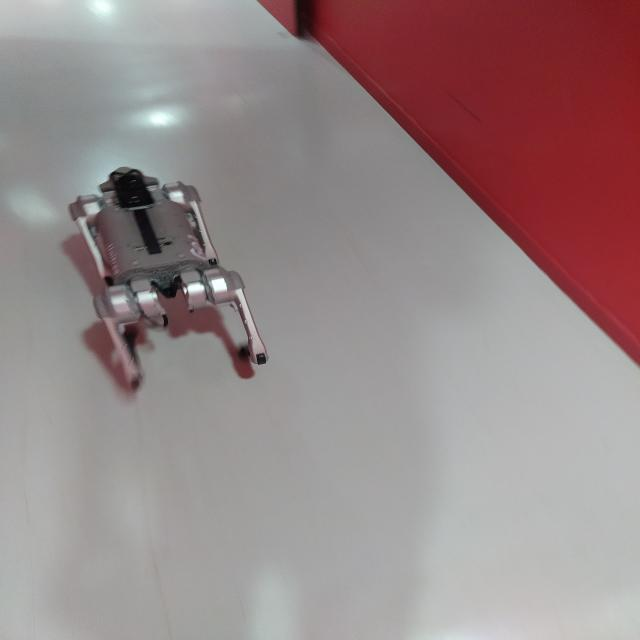unitree-go1-robot: (58, 153, 285, 394)
